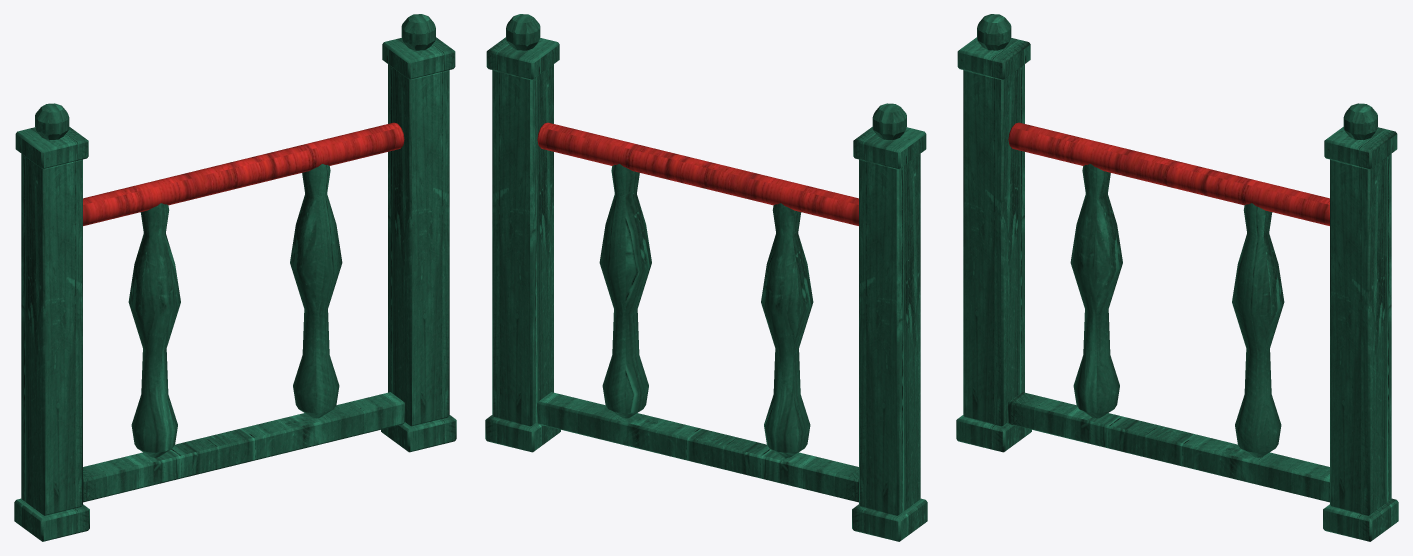
The model's file is lanban-xunzhang.glb.
3 renders of one model, left to right at view 1: azimuth 30°, elevation 25°; view 2: azimuth 150°, elevation 25°; view 3: azimuth 330°, elevation 25°, orthographic.
Visible parts, largest first — view 1: xunzhang_body, xunzhang_rail; view 2: xunzhang_body, xunzhang_rail; view 3: xunzhang_body, xunzhang_rail.
Boxes of the visible parts, bbox=[...] form: xunzhang_body: bbox=[14, 14, 456, 541]; xunzhang_rail: bbox=[83, 122, 404, 225]; xunzhang_body: bbox=[485, 14, 927, 541]; xunzhang_rail: bbox=[537, 122, 858, 225]; xunzhang_body: bbox=[956, 14, 1398, 541]; xunzhang_rail: bbox=[1008, 122, 1329, 225].
Size of the model in its own units: 1.13 by 1.1 by 0.134.
Materials: 2 (2 with a texture image).
